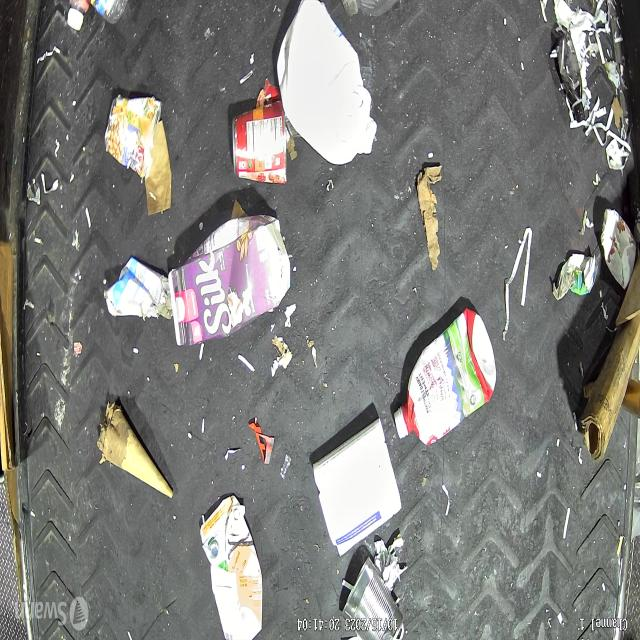can: (341, 559, 405, 640), (232, 101, 287, 188)
milk_jug: (277, 0, 378, 165)
non_white_jug: (168, 213, 291, 347), (393, 308, 496, 447), (200, 495, 263, 640)
